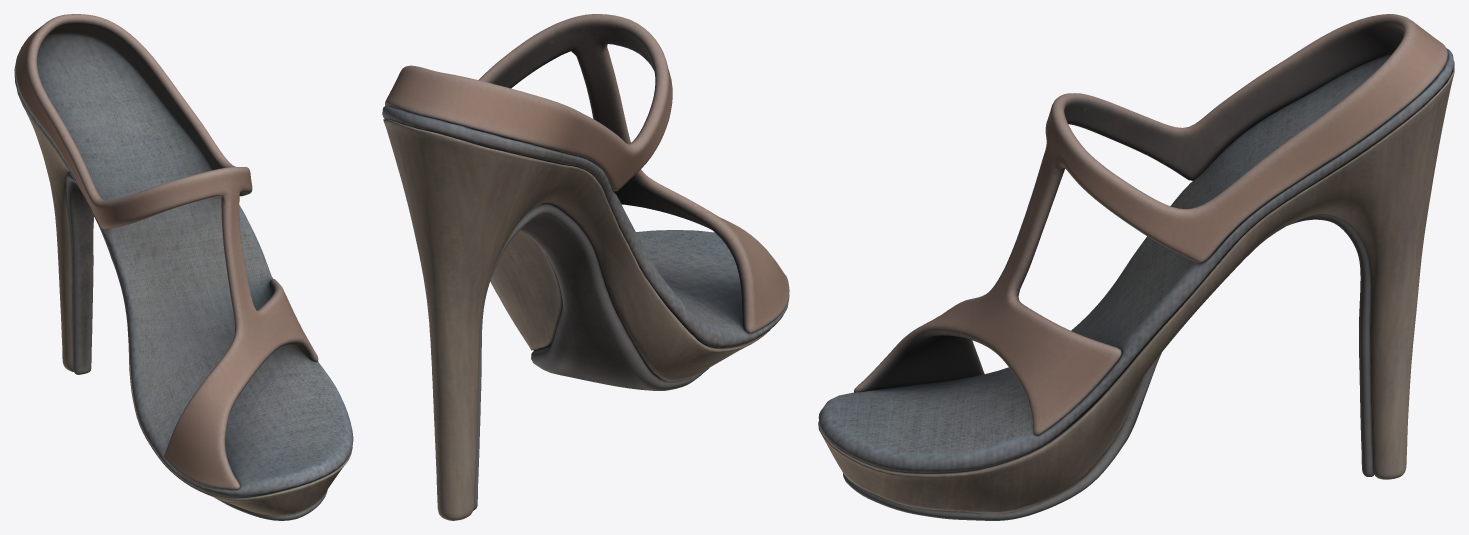
3 renders of one model, left to right at view 1: azimuth 30°, elevation 25°; view 2: azimuth 150°, elevation 25°; view 3: azimuth 270°, elevation 25°, orthographic. The views are drawn at different scales.
Visible parts, largest first — view 1: Geode; view 2: Geode; view 3: Geode.
Boxes of the visible parts, x1,y1,x2,y2 form: Geode: (14, 14, 353, 520); Geode: (382, 14, 789, 520); Geode: (818, 14, 1454, 520).
Bounding box in the file's own units: 4.14 × 7.68 × 9.94.
Materials: 1 (1 with a texture image).
